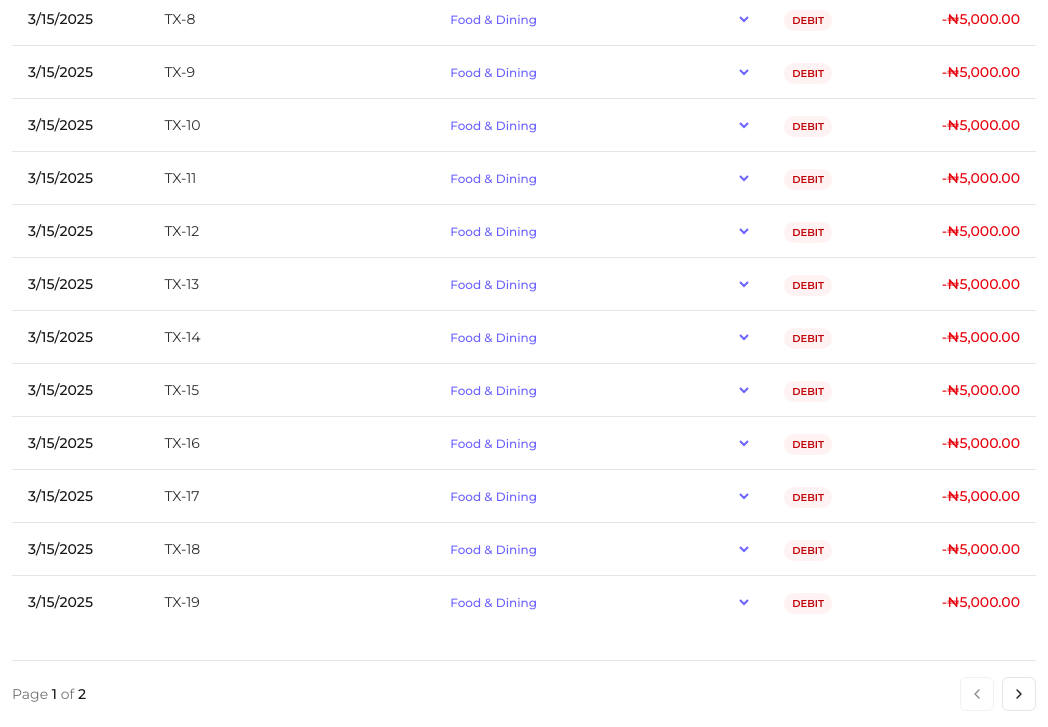
Scenario: TransactionTable › pagination › advances to page 2 when Next is clicked
(page scrolled)
Expected: the text "TX-20" is not shown
Click the 2nd button named "next": (1019, 694) [1002, 677, 1036, 711]
(page scrolled)
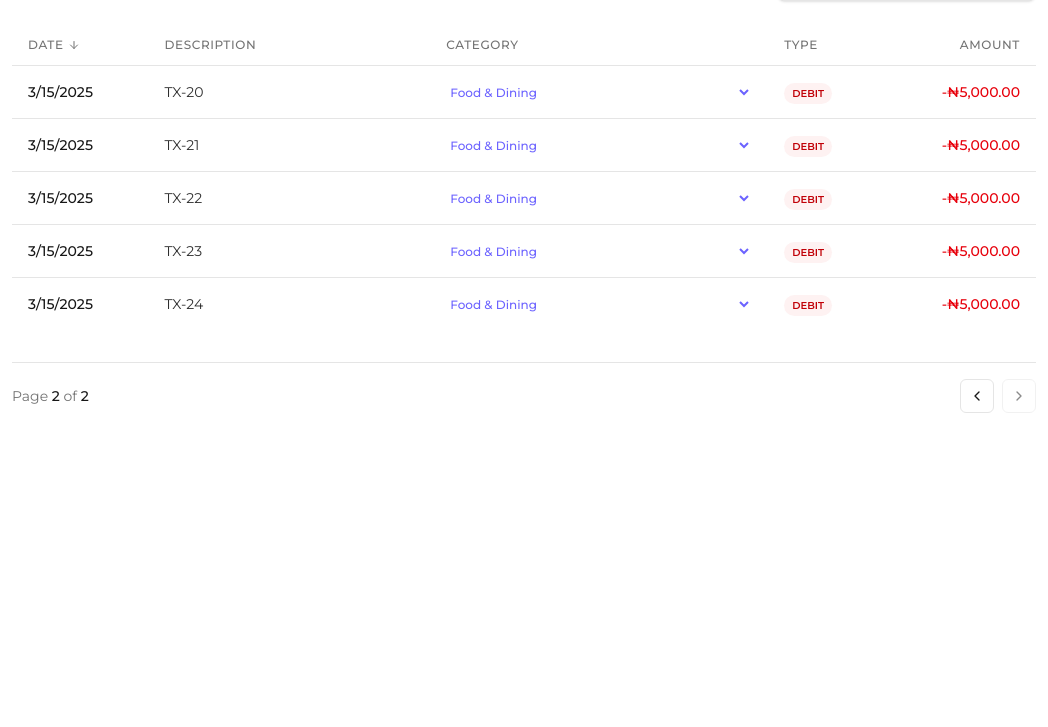
Expected: the text "TX-20" is shown, [148, 66, 430, 118]
